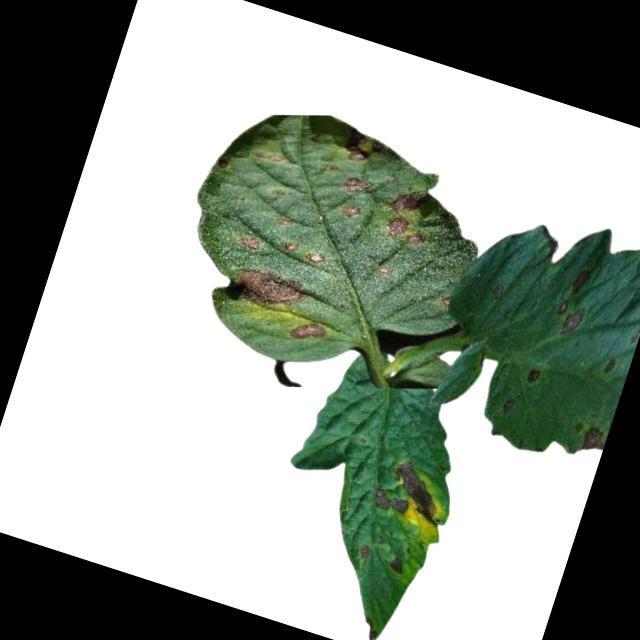Early_blight: (225, 261, 310, 317), (384, 458, 451, 524), (339, 128, 391, 171), (383, 212, 434, 252), (366, 486, 412, 521), (549, 297, 588, 338), (385, 182, 427, 219), (285, 315, 328, 348), (338, 170, 375, 200), (566, 264, 593, 301), (578, 424, 609, 456), (237, 230, 265, 256), (301, 246, 327, 271), (338, 199, 363, 223), (520, 365, 542, 390), (278, 235, 301, 258), (385, 553, 407, 576), (353, 540, 375, 562), (498, 396, 515, 418)
